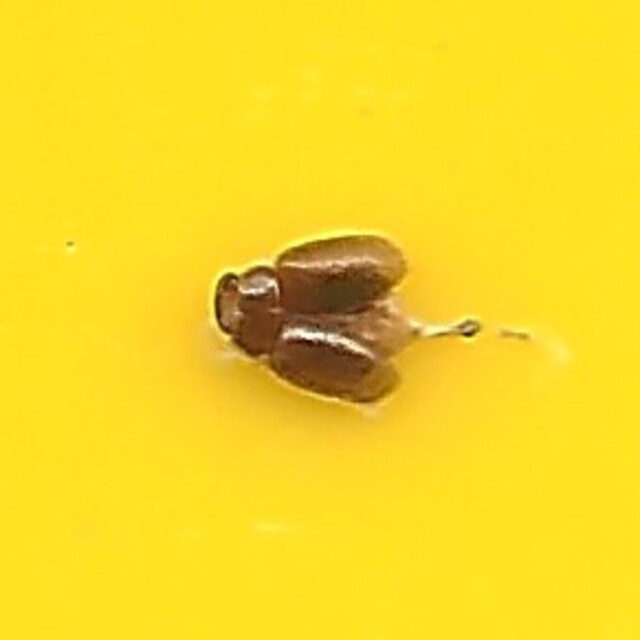Coleoptera: (220, 233, 420, 407)
